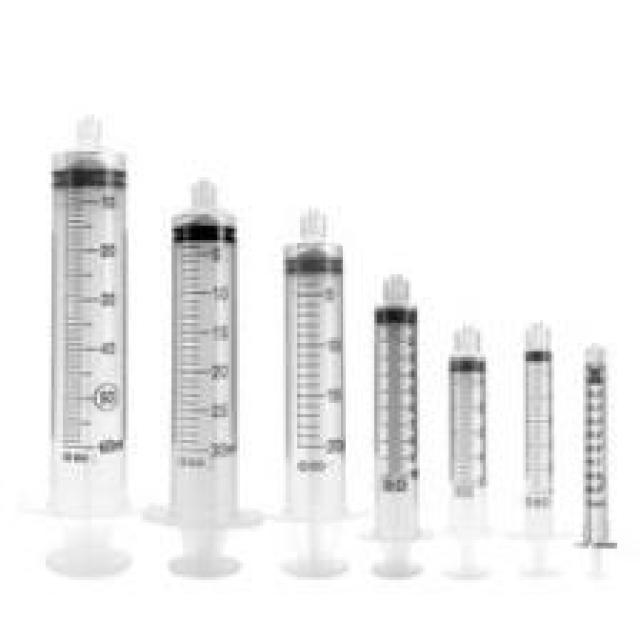syringe: (17, 104, 145, 562), (147, 178, 264, 580), (260, 212, 366, 590), (348, 250, 440, 597), (428, 309, 502, 600), (499, 317, 562, 586), (571, 342, 637, 589)
